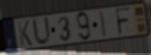3: (57, 16, 72, 43)
9: (75, 10, 92, 42)
F: (114, 6, 133, 38)
I: (98, 9, 108, 39)
K: (17, 20, 34, 48)
U: (31, 15, 53, 47)
